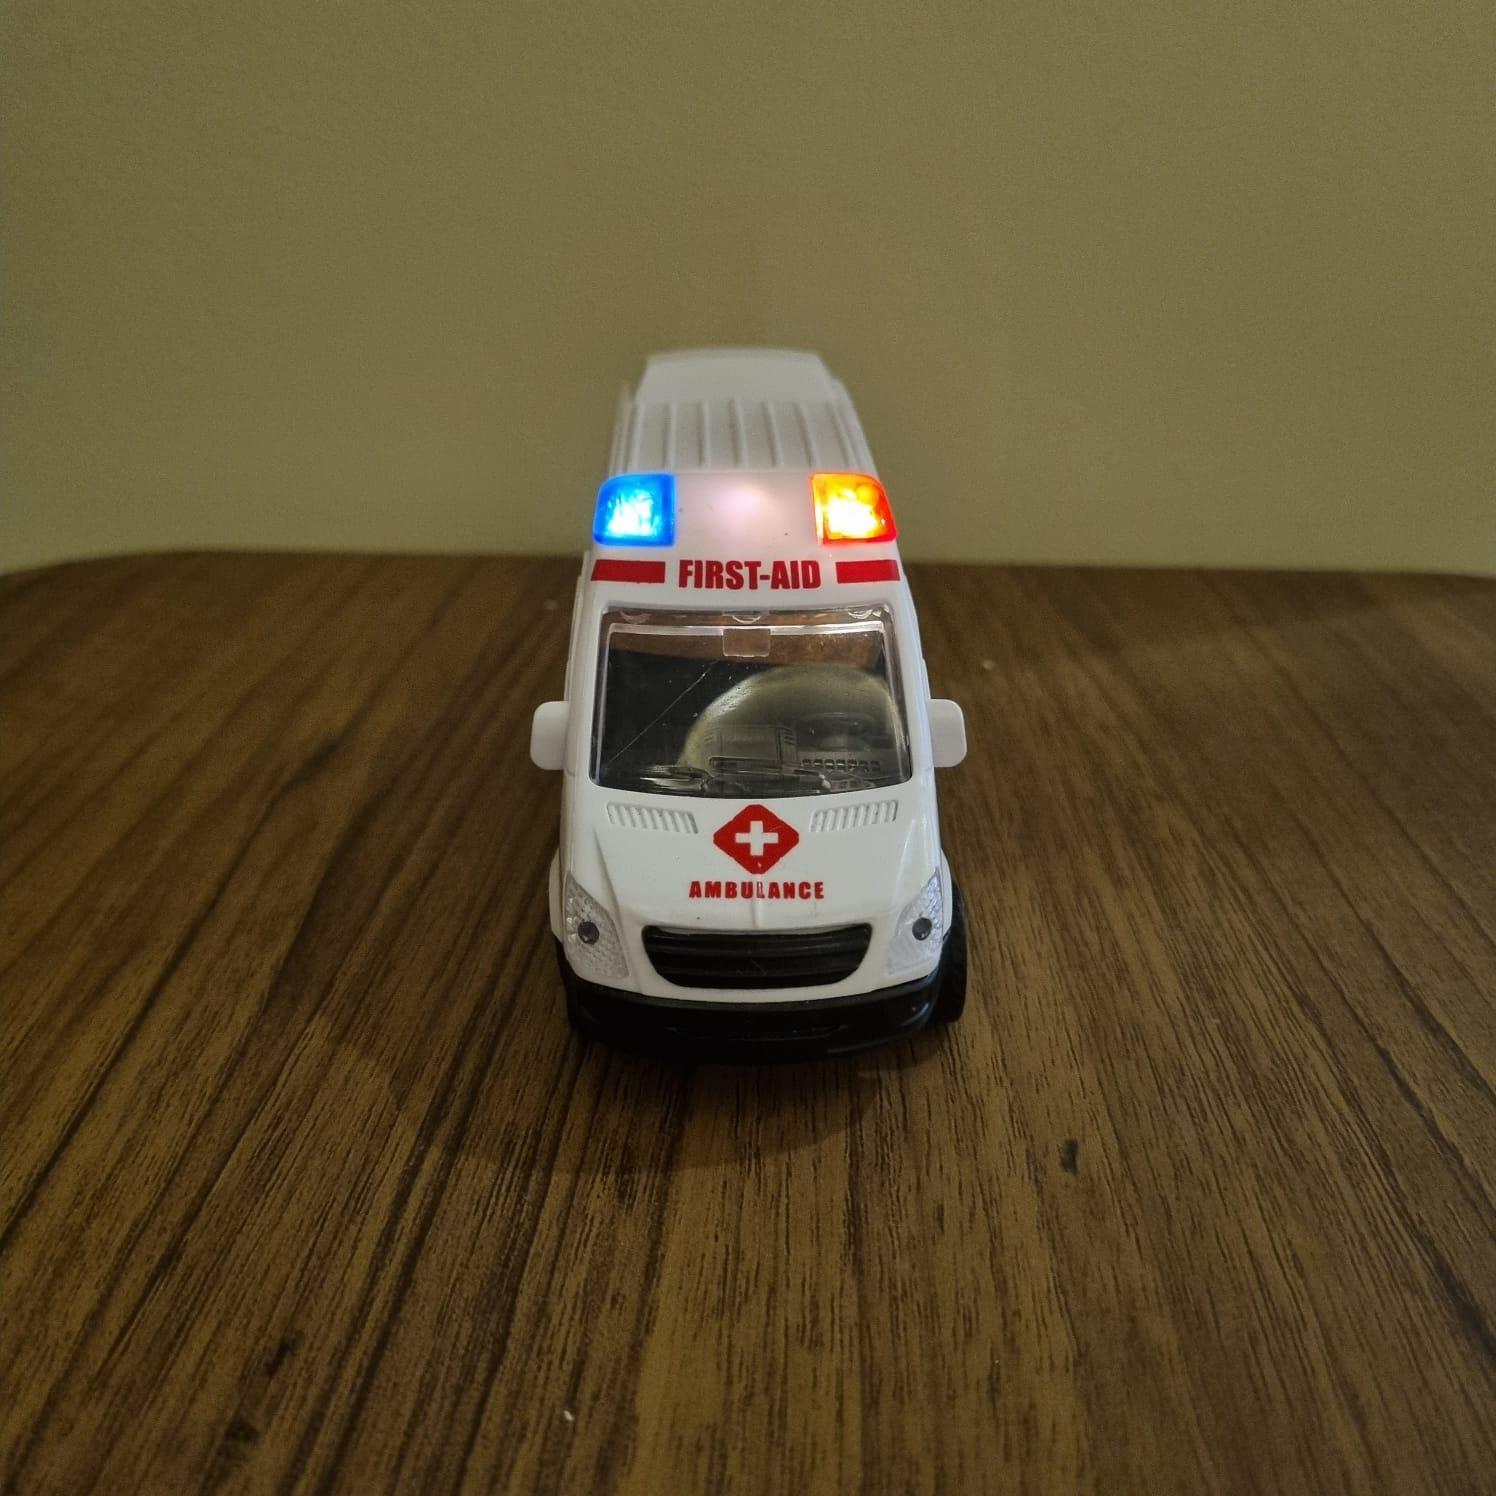ambulance_on: (532, 341, 970, 1082)
